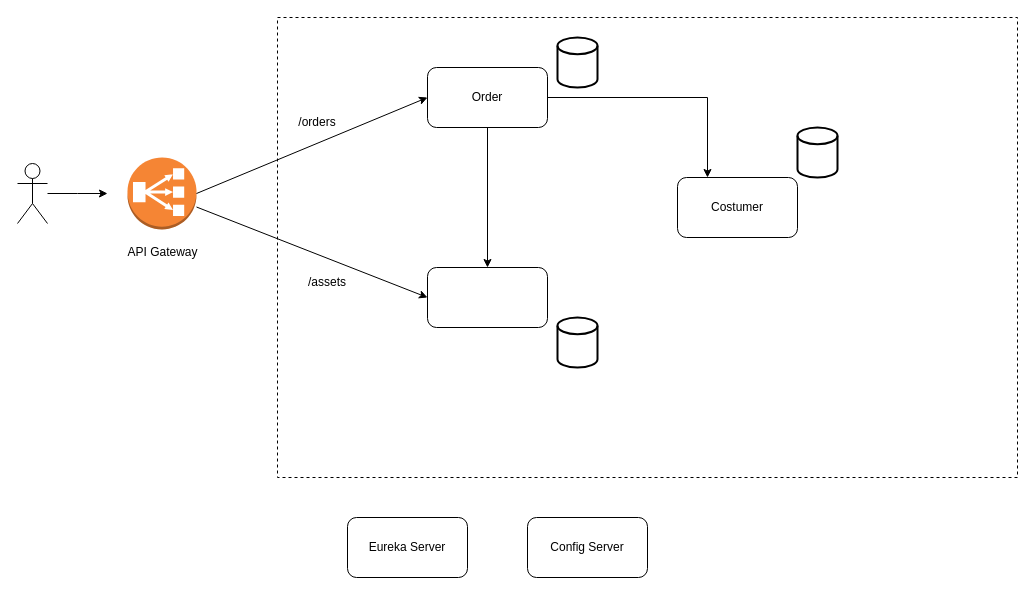
Some shapes in this 1035 by 595 pixel diagram are drawn without their labels. Each missing label, with the centre of its shape:
"Actor" belongs at point (32, 193).
"Asset" belongs at point (487, 297).
